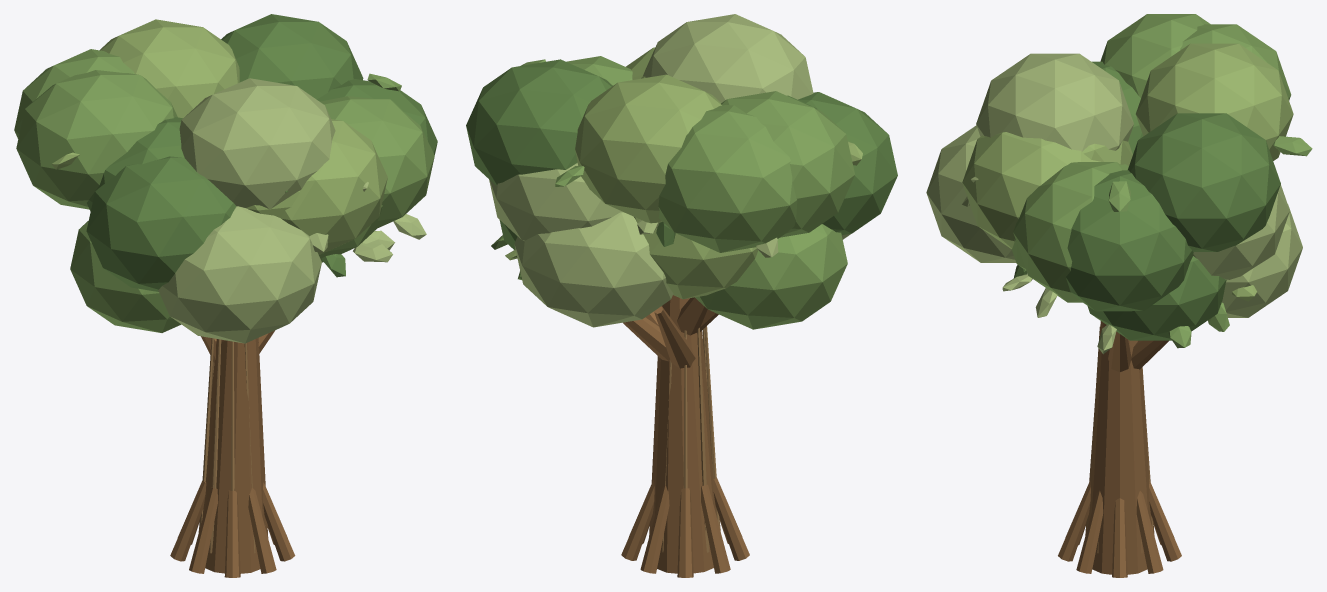
The model's file is plaza-tree.glb.
3 renders of one model, left to right at view 1: azimuth 30°, elevation 25°; view 2: azimuth 150°, elevation 25°; view 3: azimuth 270°, elevation 25°, orthographic. The views are drawn at different scales.
Visible parts, largest first — view 1: plaza-tree_HVS_leaf3, plaza-tree_HVS_leaf1, plaza-tree_HVS_leaf0, plaza-tree_HVS_leaf2, plaza-tree_HVS_oak, plaza-tree_HVS_oak_light; view 2: plaza-tree_HVS_leaf1, plaza-tree_HVS_leaf3, plaza-tree_HVS_oak, plaza-tree_HVS_leaf0, plaza-tree_HVS_leaf2, plaza-tree_HVS_oak_light; view 3: plaza-tree_HVS_leaf0, plaza-tree_HVS_leaf3, plaza-tree_HVS_leaf2, plaza-tree_HVS_oak, plaza-tree_HVS_leaf1.
Part boxes in pixels (x1,y1,x2,y2): plaza-tree_HVS_leaf3: (158,78,426,343); plaza-tree_HVS_leaf1: (14,49,434,332); plaza-tree_HVS_leaf0: (86,14,437,291); plaza-tree_HVS_leaf2: (52,19,387,254); plaza-tree_HVS_oak: (170,330,295,577); plaza-tree_HVS_oak_light: (199,338,265,553); plaza-tree_HVS_leaf1: (491,56,854,329); plaza-tree_HVS_leaf3: (489,14,851,327); plaza-tree_HVS_oak: (621,295,749,577); plaza-tree_HVS_leaf0: (466,59,897,249); plaza-tree_HVS_leaf2: (505,47,862,299); plaza-tree_HVS_oak_light: (651,326,719,552); plaza-tree_HVS_leaf0: (1013,61,1280,340); plaza-tree_HVS_leaf3: (926,53,1302,354); plaza-tree_HVS_leaf2: (962,43,1293,301); plaza-tree_HVS_oak: (1058,321,1181,577); plaza-tree_HVS_leaf1: (1011,14,1312,348).
Size of the model in its own units: 1.99 by 2.58 by 1.81.
